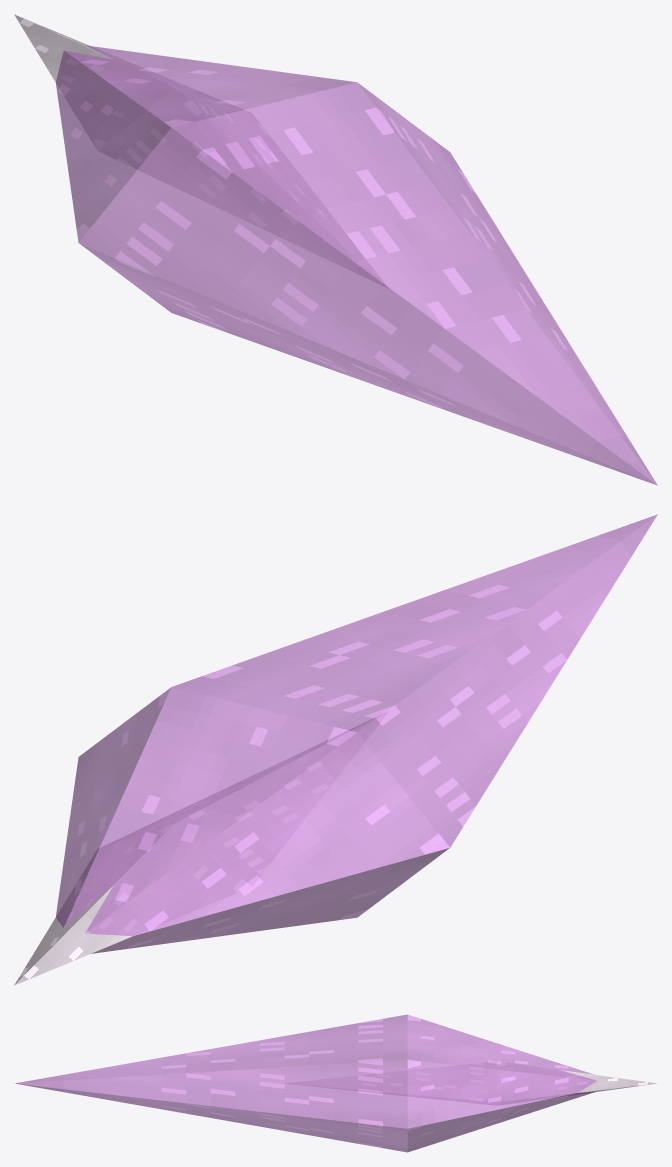
File: proj_gnat_bolt.gltf
3 views of the same model, one above another, from view 1: azimuth 30°, elevation 25°; view 2: azimuth 150°, elevation 25°; view 3: azimuth 270°, elevation 25° (orthographic). The views are drawn at different scales.
Visible parts, largest first — view 1: bolt, core; view 2: bolt, core; view 3: bolt, core.
Boxes of the visible parts, x1,y1,x2,y2 form: bolt: [55, 45, 657, 485]; core: [14, 14, 388, 288]; bolt: [56, 514, 657, 953]; core: [14, 711, 388, 985]; bolt: [14, 1014, 597, 1152]; core: [286, 1061, 657, 1105].
Size of the model in its own units: 0.12 by 0.0572 by 0.36.
Materials: 2 (2 with a texture image).
